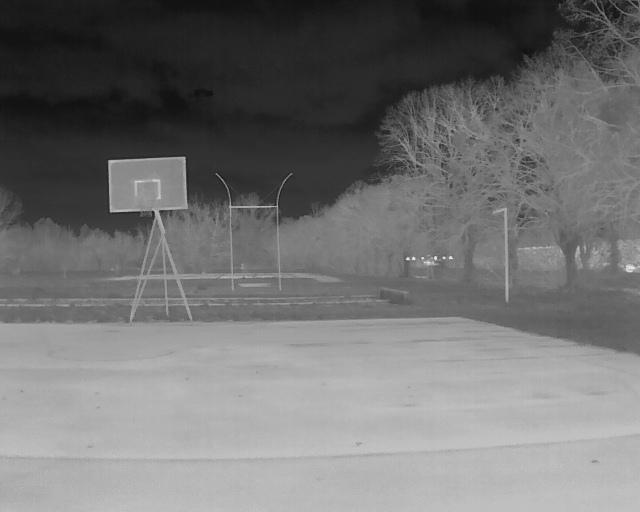drone: (401, 245, 458, 277)
